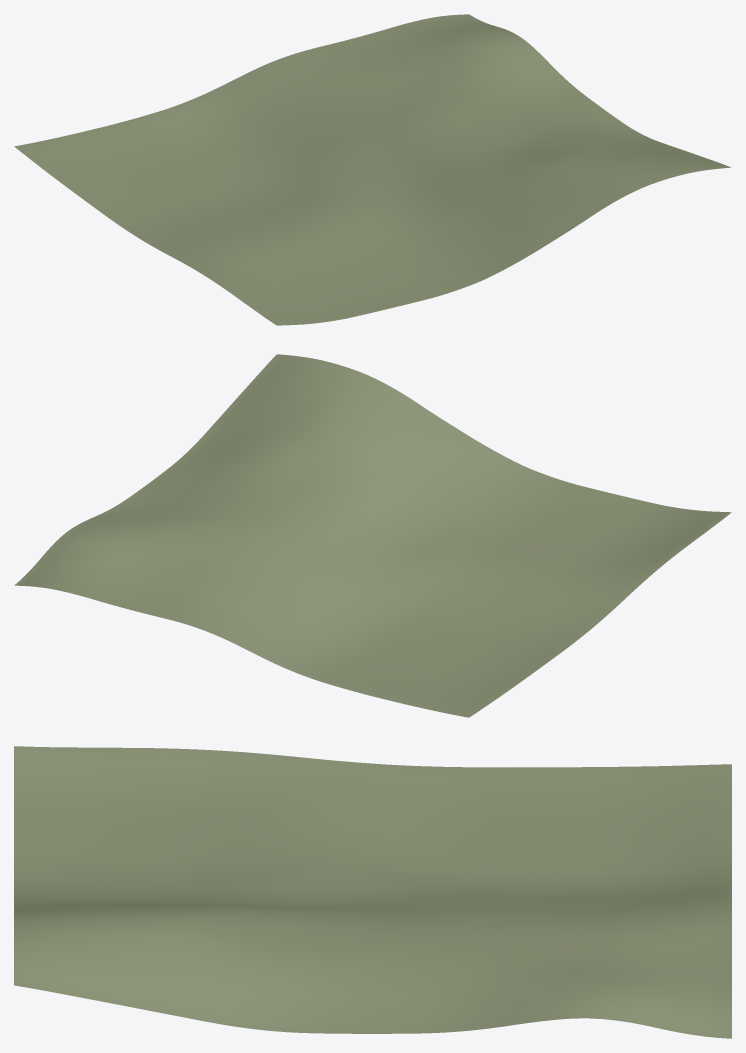
3 views of the same model, one above another, from view 1: azimuth 30°, elevation 25°; view 2: azimuth 150°, elevation 25°; view 3: azimuth 270°, elevation 25° (orthographic). The views are drawn at different scales.
Parts seen in each view (by area): view 1: ground; view 2: ground; view 3: ground.
Part boxes in pixels (x1,y1,x2,y2): ground: (14,14,731,325); ground: (14,354,731,717); ground: (14,746,731,1038).
Bounding box in the file's own units: 250 × 37.84 × 250.
